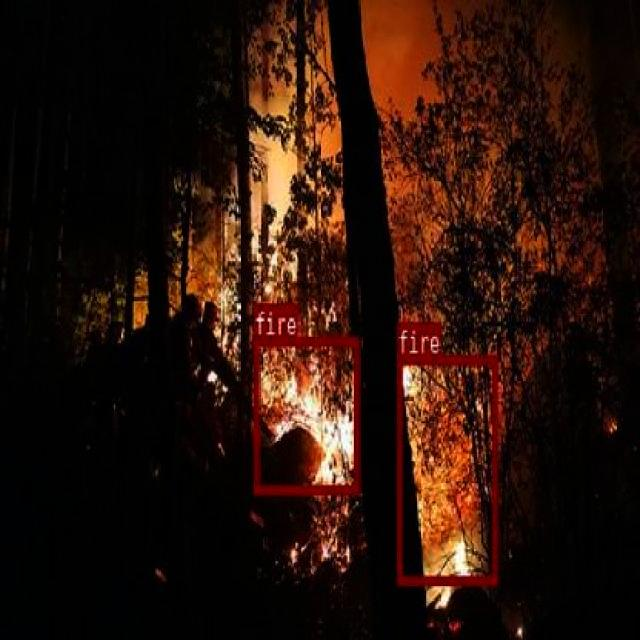fire: (396, 353, 496, 582), (254, 334, 358, 492)
